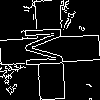M: (25, 25, 73, 69)
